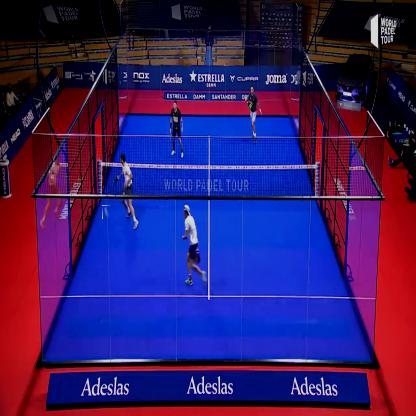ball: (103, 205, 111, 220)
